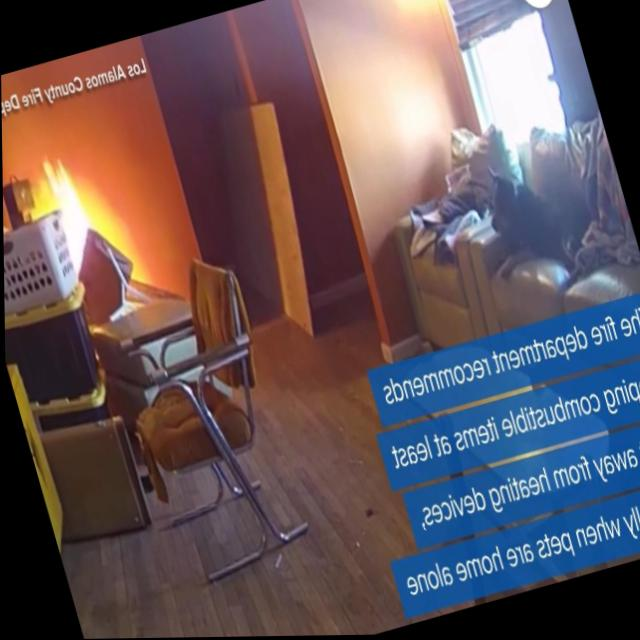fire: (18, 146, 112, 303)
